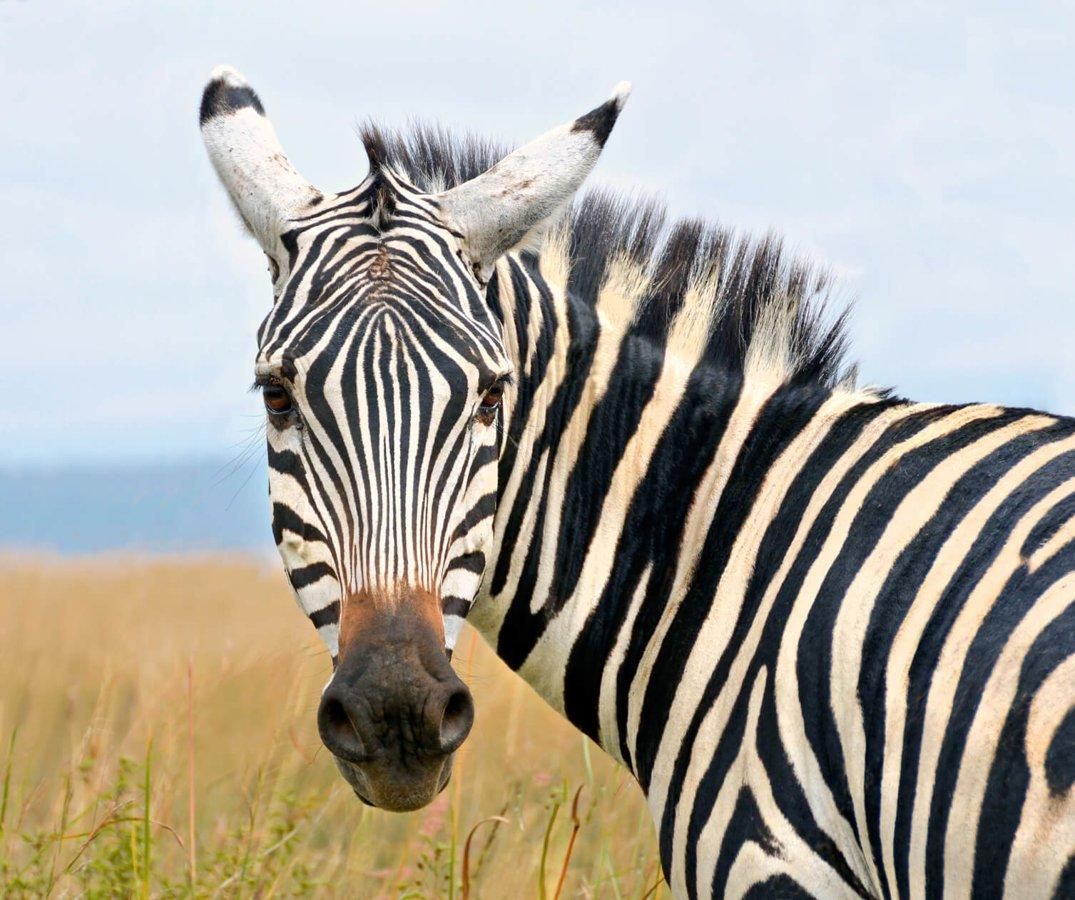Zebra: (199, 68, 1074, 899)
